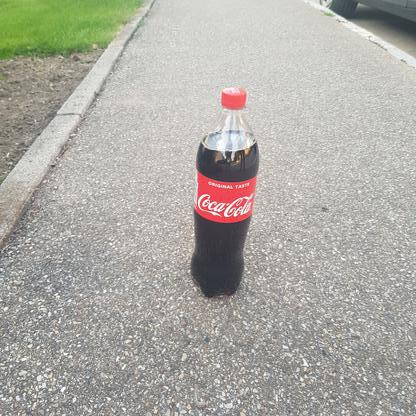coca-cola: (188, 83, 262, 303)
